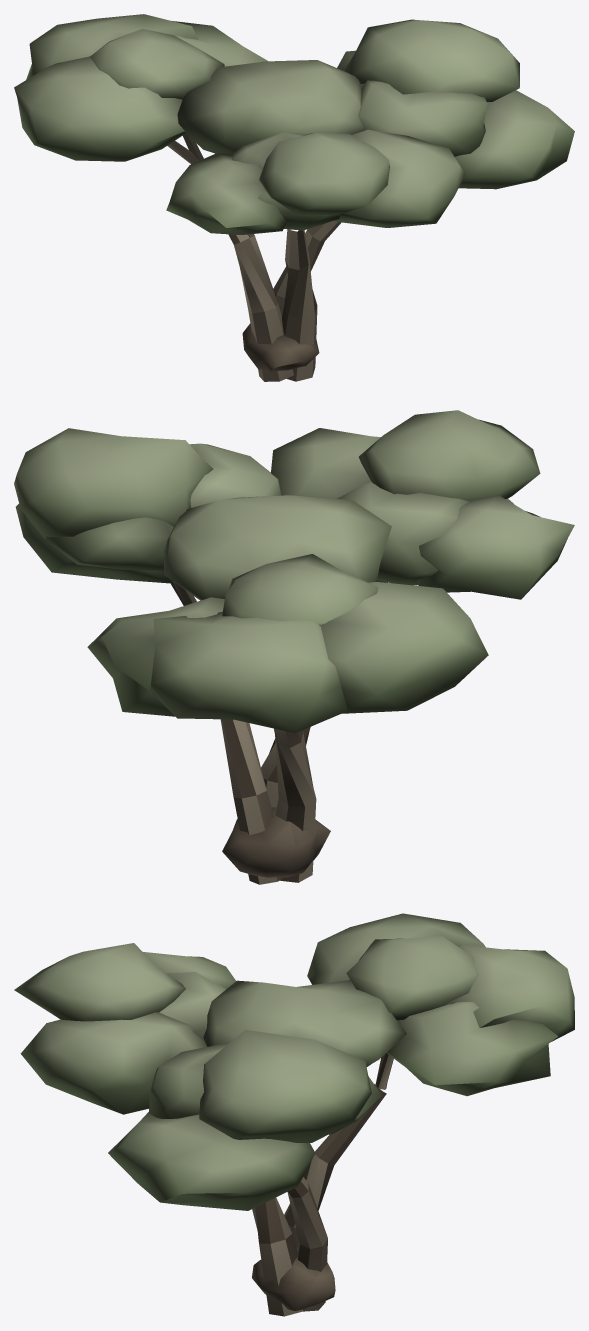
Rendered from olive_tree.glb.
The picture shows the model from 3 angles, top to bottom: view 1: azimuth 30°, elevation 25°; view 2: azimuth 150°, elevation 25°; view 3: azimuth 270°, elevation 25°; orthographic projection. The views are drawn at different scales.
Visible parts, largest first — view 1: olive_tree_mesh; view 2: olive_tree_mesh; view 3: olive_tree_mesh.
Part boxes in pixels (x1,y1,x2,y2): olive_tree_mesh: (14, 14, 574, 381); olive_tree_mesh: (14, 410, 574, 884); olive_tree_mesh: (14, 913, 574, 1316).
Bounding box in the file's own units: 7.1 × 4.76 × 7.39.
